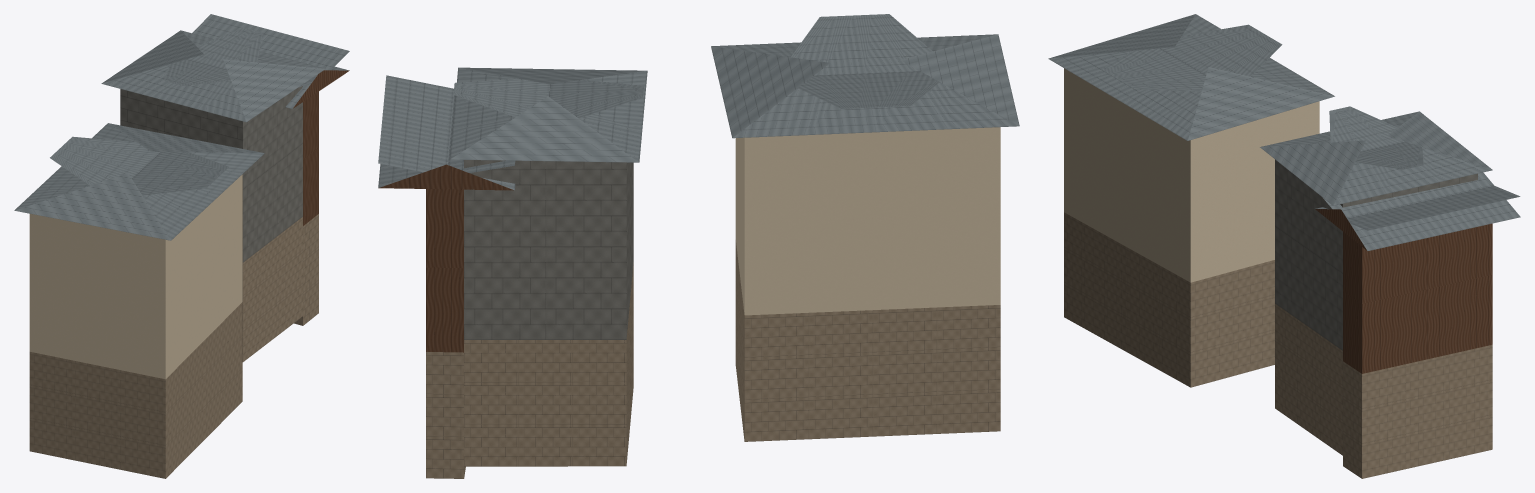
File: bld_c23_29_396.gltf
3 renders of one model, left to right at view 1: azimuth 30°, elevation 25°; view 2: azimuth 150°, elevation 25°; view 3: azimuth 270°, elevation 25°, orthographic. The views are drawn at different scales.
Visible parts, largest first — view 1: bld_c23_29_396; view 2: bld_c23_29_396; view 3: bld_c23_29_396.
Part boxes in pixels (<box>): bld_c23_29_396: <box>14,14,349,478</box>; bld_c23_29_396: <box>378,14,1019,478</box>; bld_c23_29_396: <box>1048,14,1520,478</box>.
Size of the model in its own units: 22.36 by 14.1 by 20.82.
Materials: 6 (6 with a texture image).
